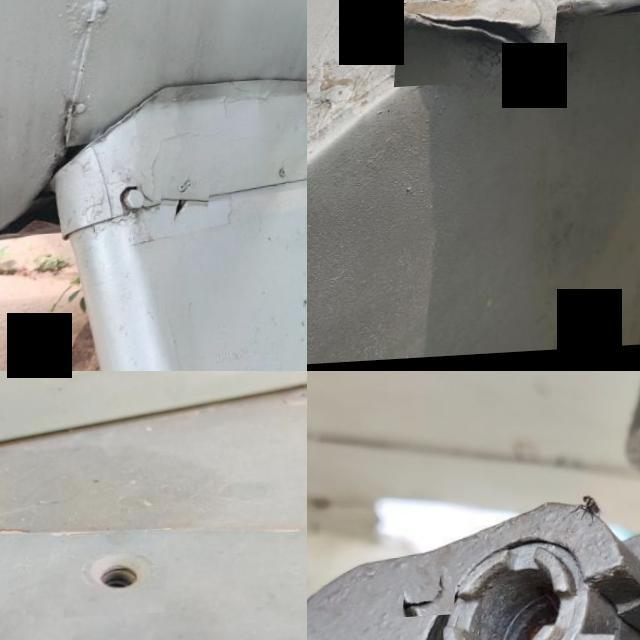Crack: (399, 0, 562, 90), (408, 568, 462, 619), (164, 188, 215, 233)
Missing_Fastener: (70, 532, 176, 621)
